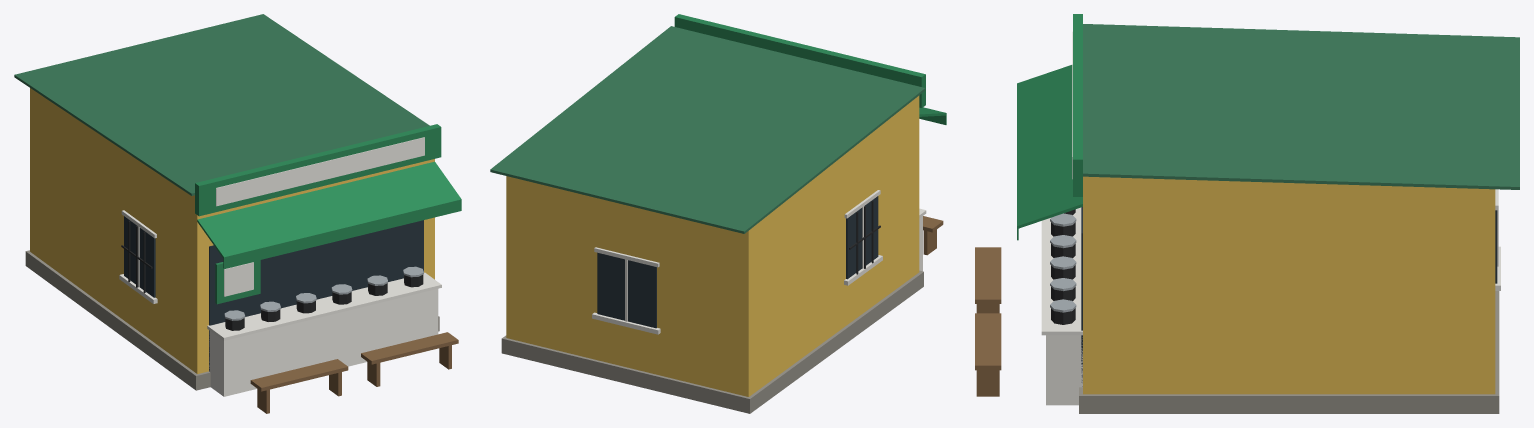
Rendered from BAY_F_Shop_D.glb.
3 views of the same model, side by side, from view 1: azimuth 30°, elevation 25°; view 2: azimuth 150°, elevation 25°; view 3: azimuth 270°, elevation 25° (orthographic). The views are drawn at different scales.
Visible parts, largest first — view 1: BAY_F_Shop_D; view 2: BAY_F_Shop_D; view 3: BAY_F_Shop_D.
Boxes of the visible parts, x1,y1,x2,y2 form: BAY_F_Shop_D: [14, 14, 461, 413]; BAY_F_Shop_D: [490, 14, 946, 413]; BAY_F_Shop_D: [975, 14, 1519, 413].
Size of the model in its own units: 4.3 by 3.4 by 6.61.
Materials: 1 (1 with a texture image).
